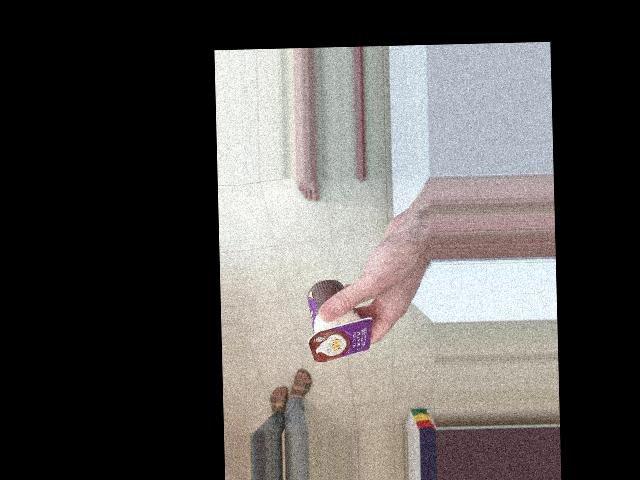milky: (274, 306, 365, 368)
